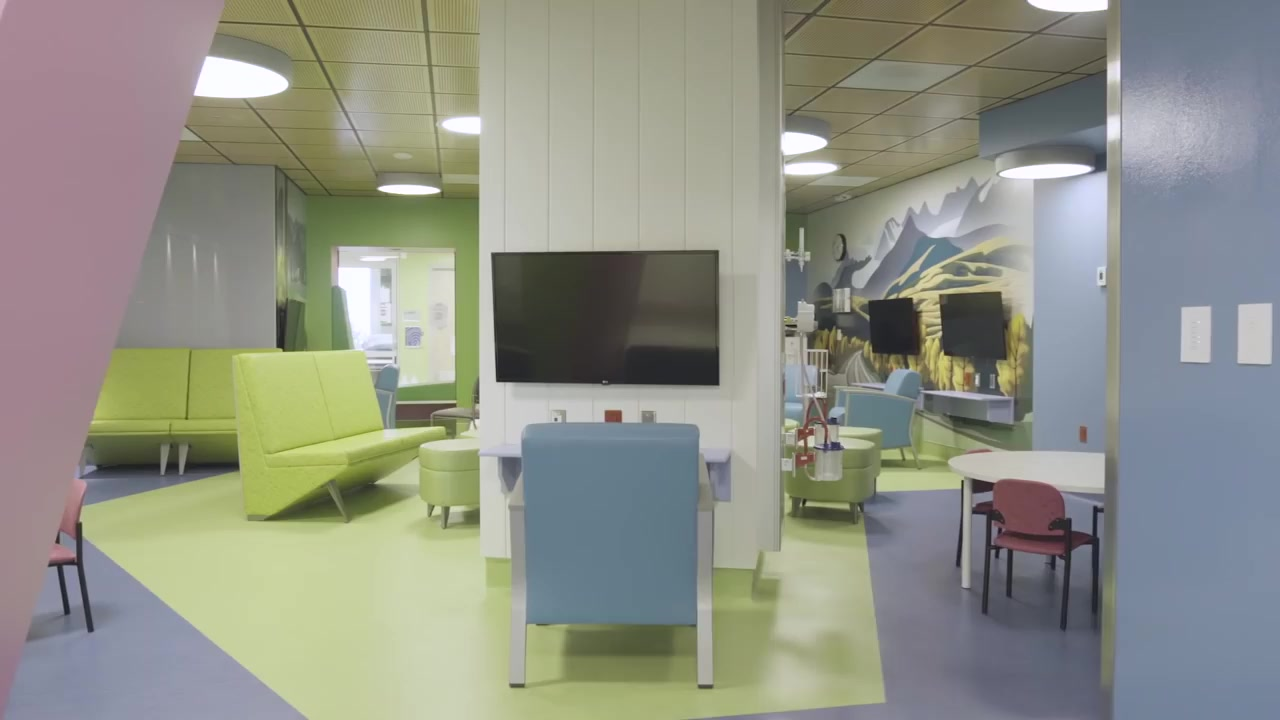TV: (492, 250, 719, 385), (939, 291, 1007, 359), (868, 297, 918, 354)
chair: (982, 479, 1100, 630), (784, 436, 875, 524), (47, 475, 96, 634), (954, 448, 1005, 567), (794, 427, 882, 495), (420, 438, 483, 530), (431, 376, 478, 429)
countertop: (480, 444, 732, 461), (919, 389, 1015, 402), (850, 382, 885, 388)
light_switch: (1079, 425, 1089, 443)
sofa: (507, 416, 710, 680), (231, 350, 445, 522), (88, 349, 282, 475), (828, 368, 921, 468), (786, 365, 818, 426), (375, 363, 400, 429)
table: (948, 451, 1104, 588)
